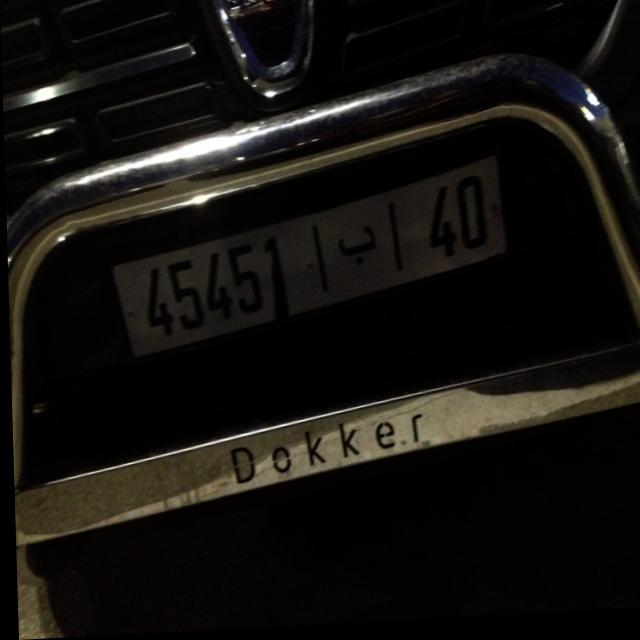License-Plate: (111, 162, 505, 358)
